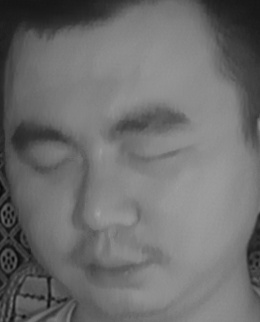blink: (133, 139, 188, 171), (29, 149, 74, 179)
mouth: (82, 238, 162, 291)
